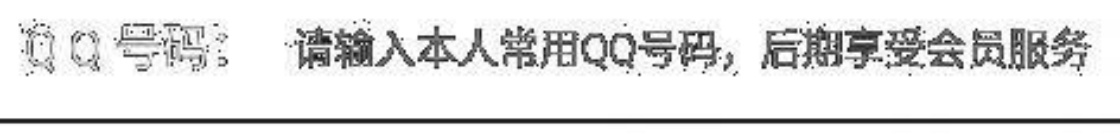EditText: (1, 1, 1119, 139)
